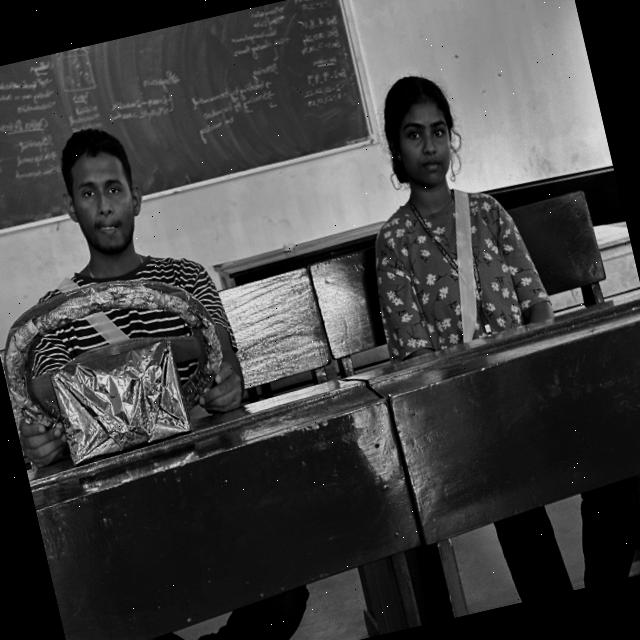seatbelt: (15, 232, 251, 452), (350, 173, 551, 366)
